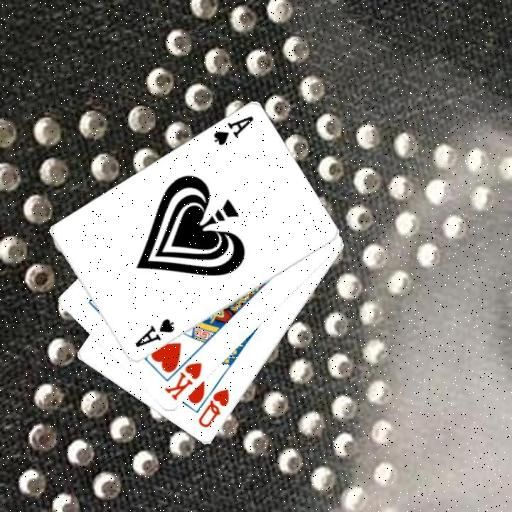AS: (210, 113, 256, 148), (132, 316, 177, 350)
KH: (161, 359, 203, 403)
QH: (195, 386, 231, 430)
